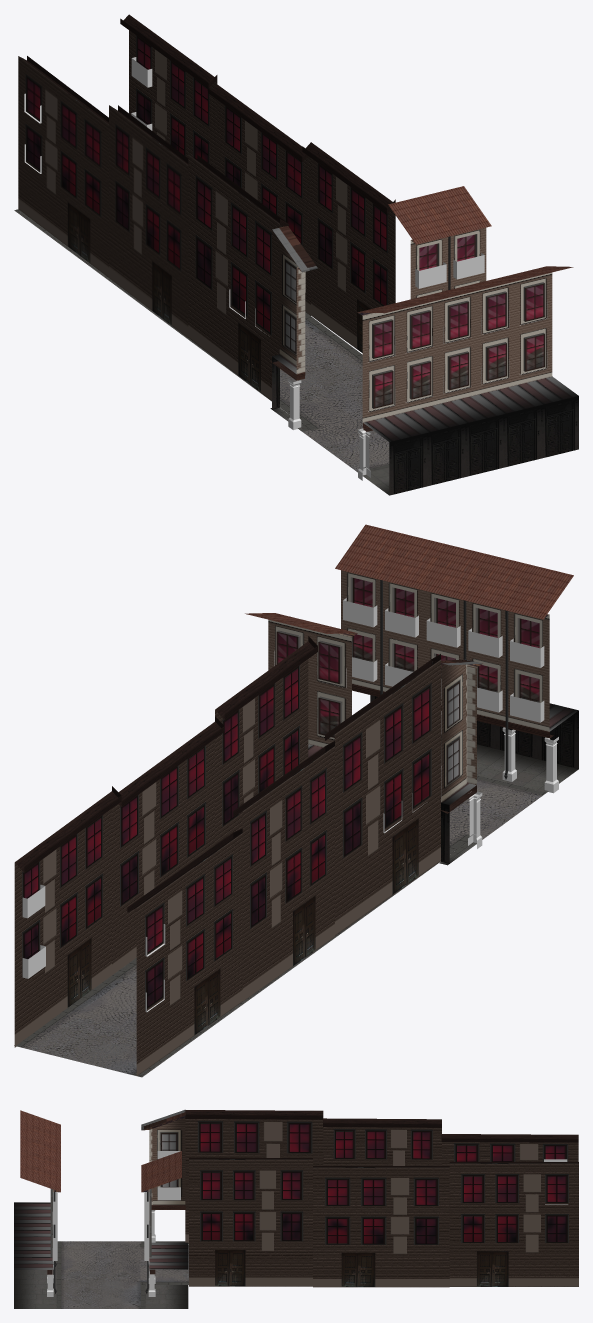
Rendered from street_asset.fbx.
The picture shows the model from 3 angles, top to bottom: view 1: azimuth 30°, elevation 25°; view 2: azimuth 150°, elevation 25°; view 3: azimuth 270°, elevation 25°; orthographic projection. The views are drawn at different scales.
Visible parts, largest first — view 1: Cube.007, Cube.033, Cube.035, Cube.034, Cube.037, Cube.038, Cube.039, Cube.001; view 2: Cube.007, Cube.033, Cube.035, Cube.034, Cube.039, Cube.038, Cube.037, Cube.001, Cube.026, Cube.030, Cube.022, Cube.024 (+2 smaller); view 3: Cube.007, Cube.038, Cube.039, Cube.037, Cube.033, Cube.034, Cube.035, Cube.001, Cube.004.
Boxes of the visible parts, x1,y1,x2,y2 form: Cube.007: (270,186,578,495); Cube.033: (188,154,288,406); Cube.035: (18,56,108,277); Cube.034: (109,105,188,337); Cube.037: (302,142,395,352); Cube.038: (208,84,310,315); Cube.039: (120,14,217,169); Cube.001: (14,209,362,430); Cube.007: (245,524,578,865); Cube.033: (325,654,440,935); Cube.035: (127,828,242,1075); Cube.034: (233,741,334,1001); Cube.039: (14,786,121,1047); Cube.038: (112,716,224,974); Cube.037: (215,636,317,844); Cube.001: (14,830,469,1077); Cube.026: (426,618,460,647); Cube.030: (343,598,377,627); Cube.022: (510,638,544,667); Cube.024: (468,628,502,657); Cube.007: (14,1109,188,1308); Cube.038: (313,1166,449,1287); Cube.039: (449,1162,578,1286); Cube.037: (189,1158,312,1286); Cube.033: (185,1110,323,1243); Cube.034: (323,1118,441,1165); Cube.035: (441,1134,578,1165); Cube.001: (140,1244,577,1286); Cube.004: (157,1187,180,1200).
Size of the model in its own units: 2044 by 1920 by 7061.
